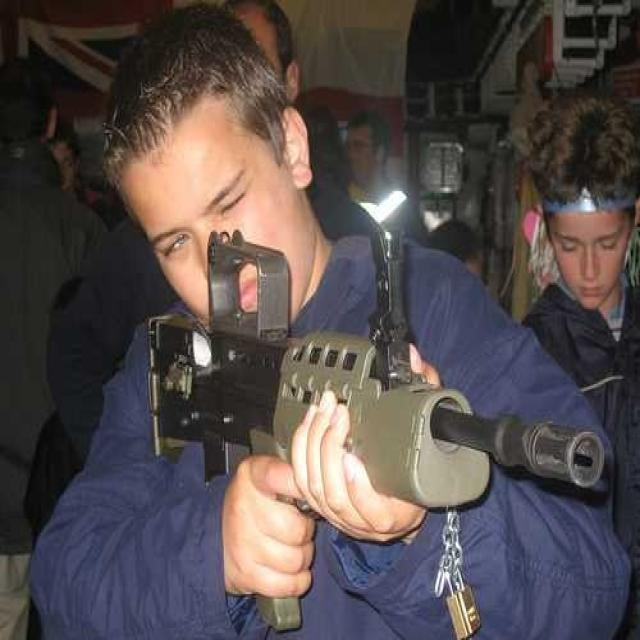RifleTel: (146, 231, 606, 531)
